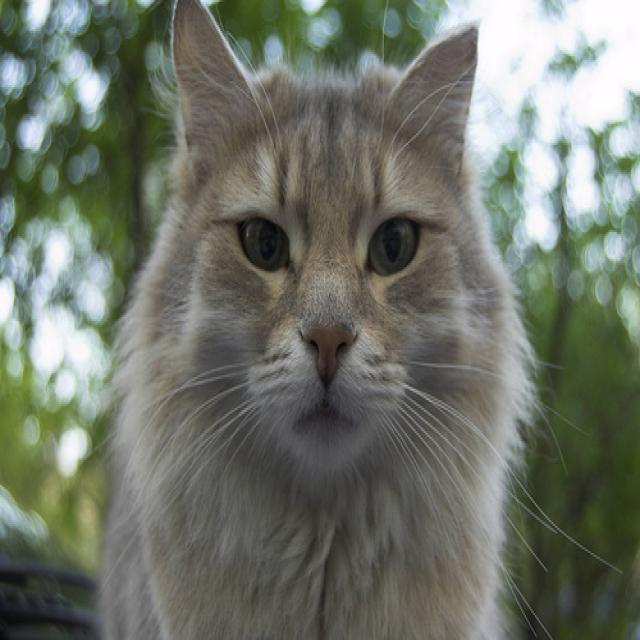left eye: (365, 211, 421, 276)
